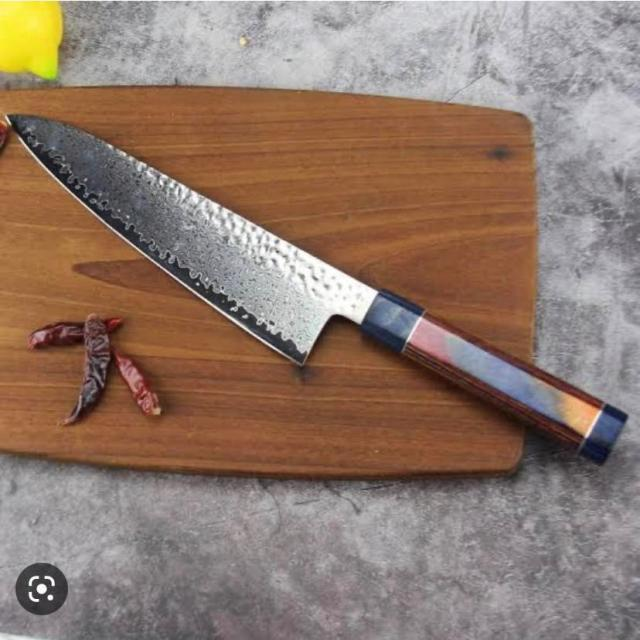Knife: (3, 108, 632, 466)
